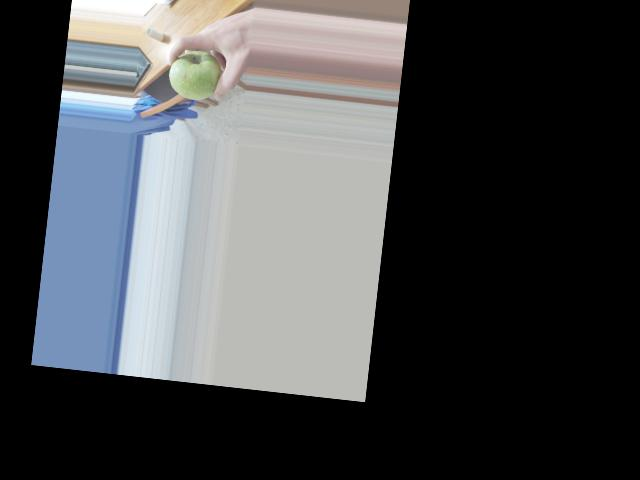apple: (164, 46, 224, 103)
